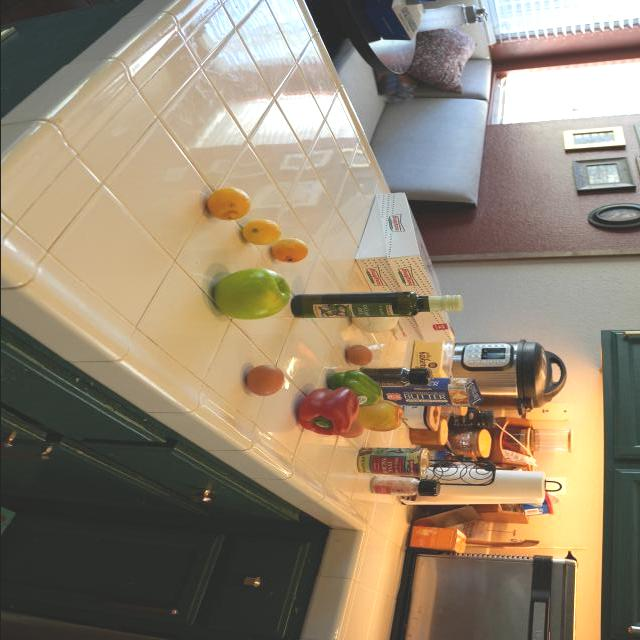bell_pepper: (300, 389, 364, 433), (360, 363, 436, 390), (338, 370, 386, 405)
egg: (243, 365, 293, 401), (343, 343, 377, 369), (337, 422, 365, 444)
onion: (350, 303, 400, 333)
